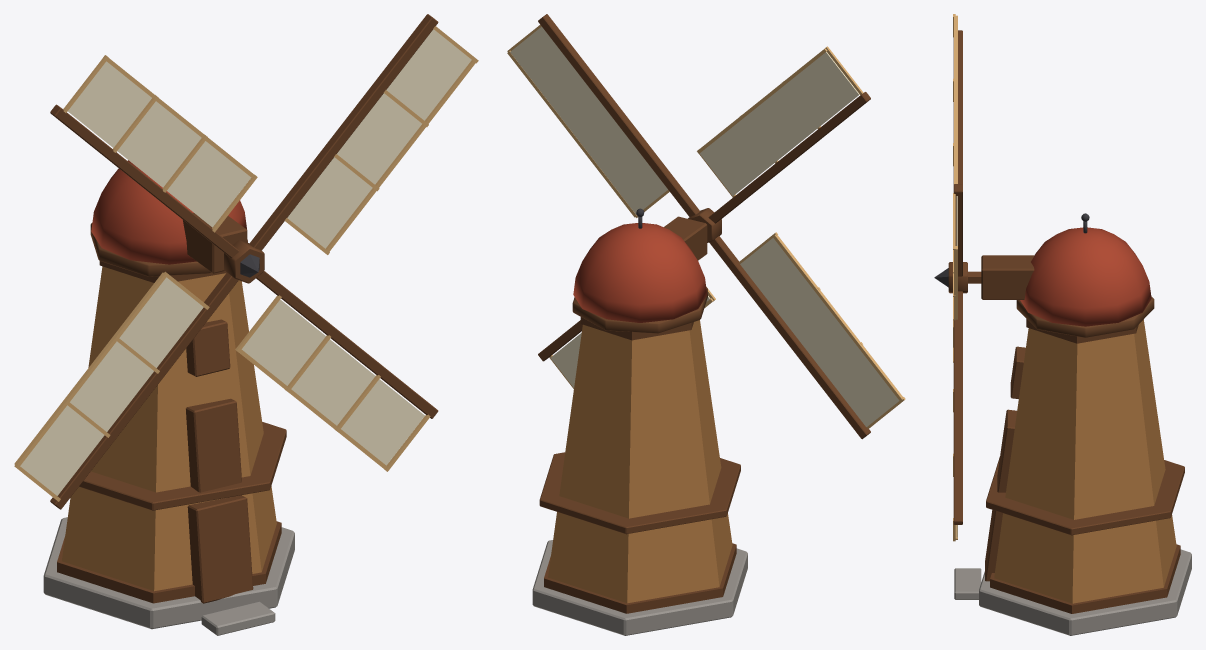
Rendered from gen_windmill.mobile-low.glb.
The picture shows the model from 3 angles, left to right: view 1: azimuth 30°, elevation 25°; view 2: azimuth 150°, elevation 25°; view 3: azimuth 270°, elevation 25°; orthographic projection. The views are drawn at different scales.
Visible parts, largest first — view 1: windmill_sails, gen_windmill; view 2: gen_windmill, windmill_sails; view 3: gen_windmill, windmill_sails.
Boxes of the visible parts, x1,y1,x2,y2 form: windmill_sails: (14,14,478,509); gen_windmill: (43,160,294,635); gen_windmill: (532,208,747,635); windmill_sails: (507,14,905,439); gen_windmill: (954,213,1191,635); windmill_sails: (934,14,981,541).
Size of the model in its own units: 11.78 by 14.79 by 6.7.
Materials: 1 (1 with a texture image).
